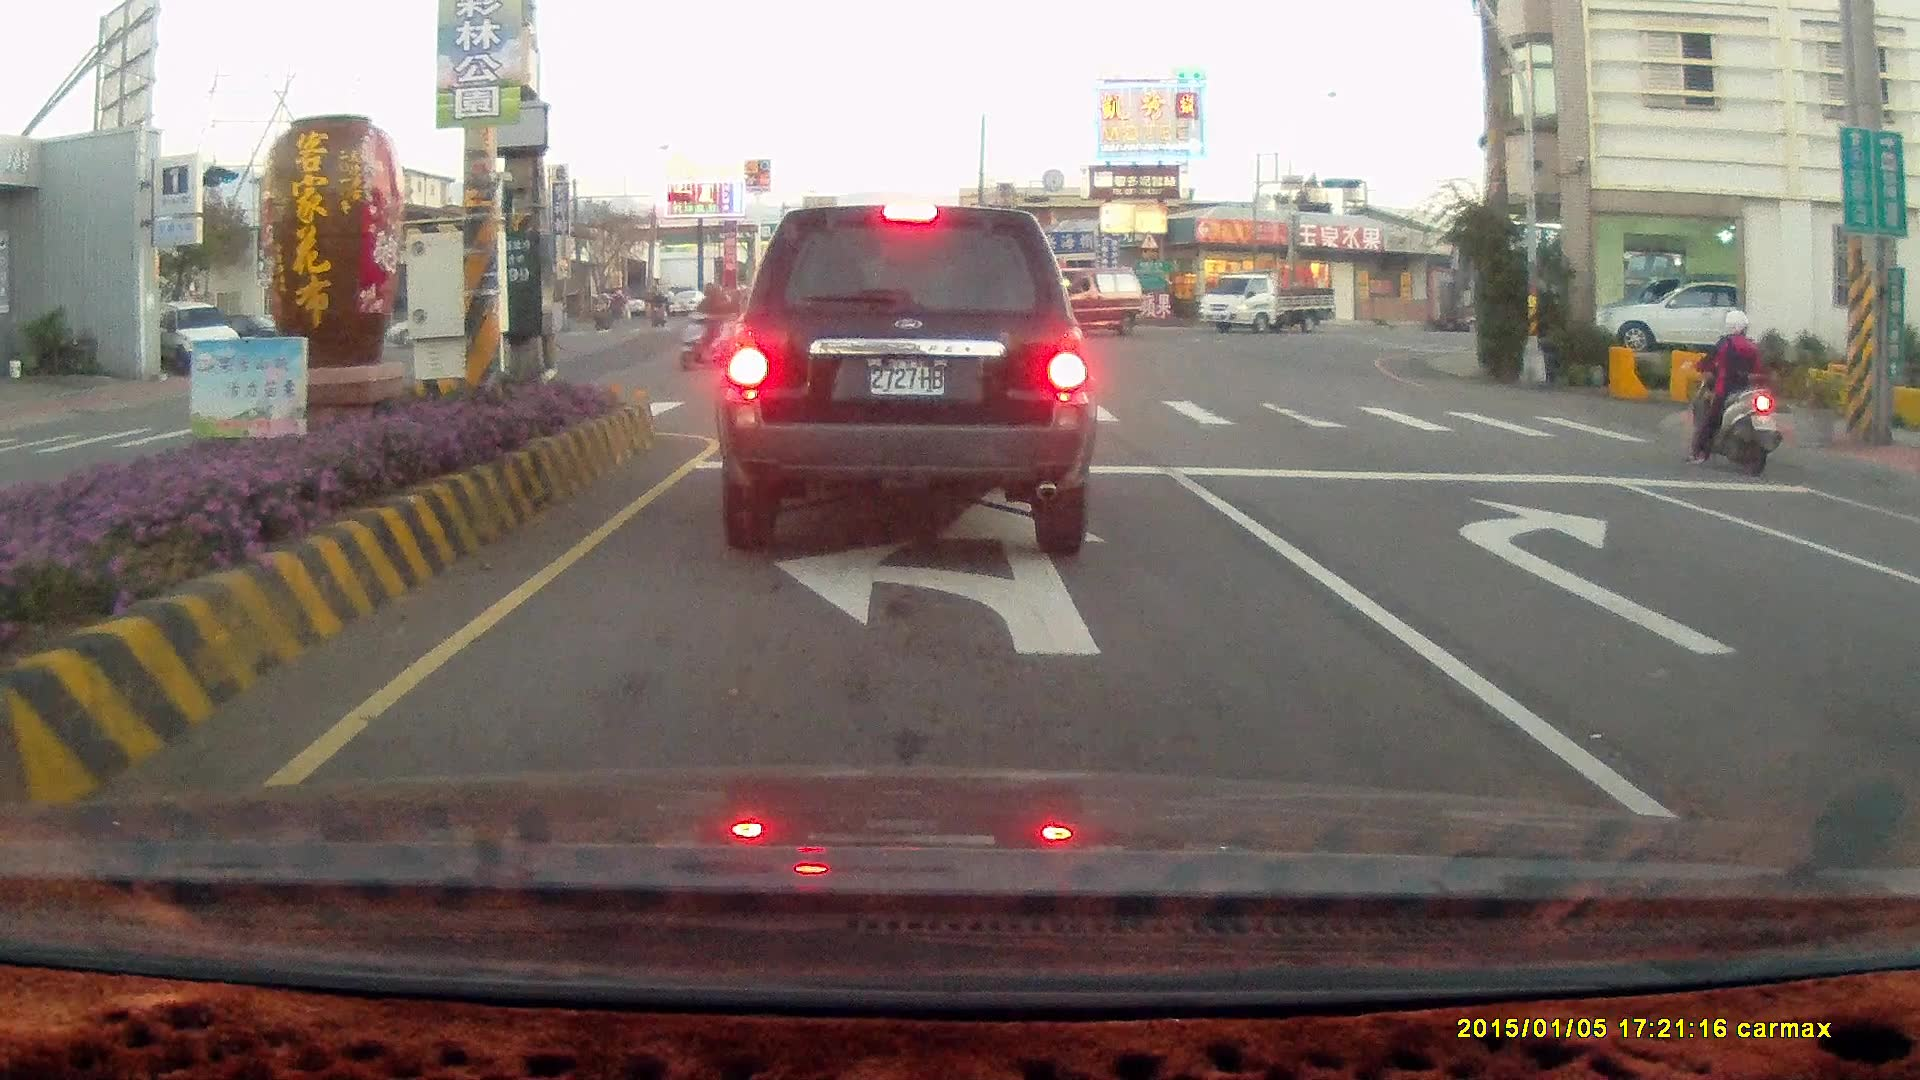rider: (1688, 308, 1782, 475), (675, 281, 735, 372), (590, 289, 616, 329), (650, 289, 671, 326)
vehicle: (713, 204, 1097, 558), (1583, 275, 1784, 353), (1600, 280, 1735, 350), (1014, 267, 1142, 340), (1198, 274, 1338, 340), (1013, 266, 1142, 337), (132, 298, 240, 378), (1896, 493, 1920, 836), (1883, 528, 1920, 690)
